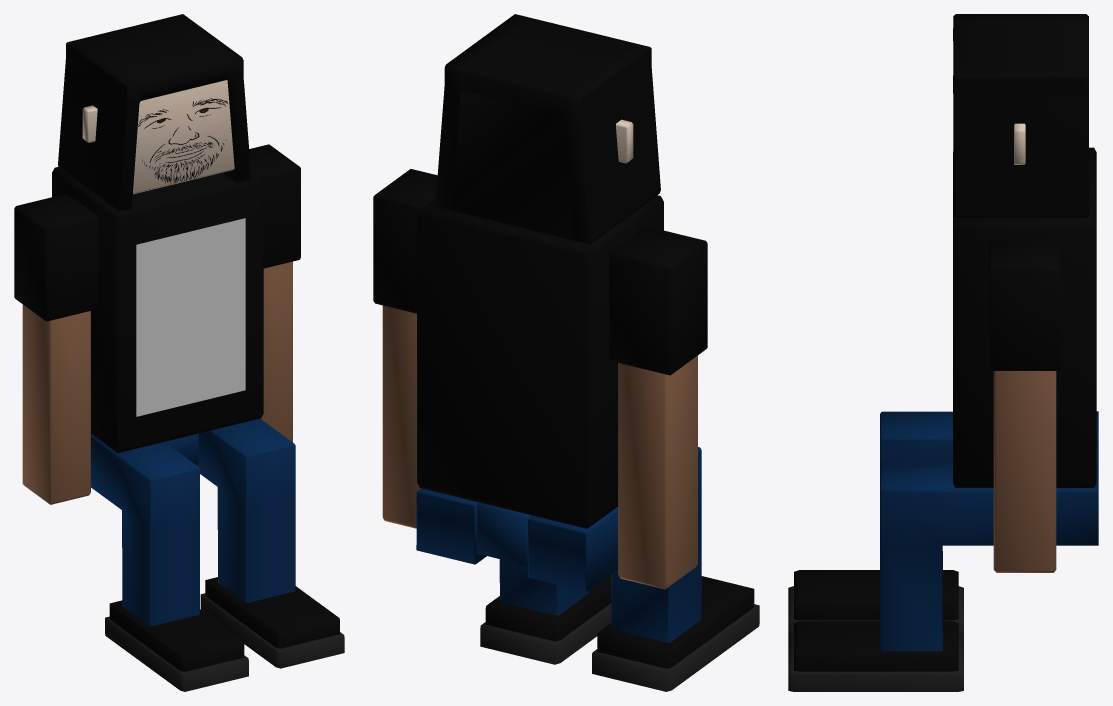
Rendered from MartinSitting.FBX.
The picture shows the model from 3 angles, left to right: view 1: azimuth 30°, elevation 25°; view 2: azimuth 150°, elevation 25°; view 3: azimuth 270°, elevation 25°; orthographic projection. The views are drawn at different scales.
Parts seen in each view (by area): view 1: Ass, Body, Head, RArm, LArm; view 2: Body, Head, Ass, RArm, LArm; view 3: Ass, Head, Body, LArm.
Boxes of the visible parts, x1,y1,x2,y2 form: Ass: [91, 418, 344, 691]; Body: [52, 167, 263, 452]; Head: [58, 14, 251, 211]; RArm: [14, 193, 98, 504]; LArm: [249, 144, 300, 442]; Body: [417, 195, 663, 528]; Head: [435, 14, 660, 243]; Ass: [416, 447, 759, 691]; RArm: [609, 226, 707, 589]; LArm: [373, 169, 437, 528]; Ass: [788, 411, 1098, 691]; Head: [953, 14, 1088, 217]; Body: [953, 147, 1096, 487]; LArm: [989, 241, 1060, 572].
Bounding box in the file's own units: 133 × 272 × 127.
